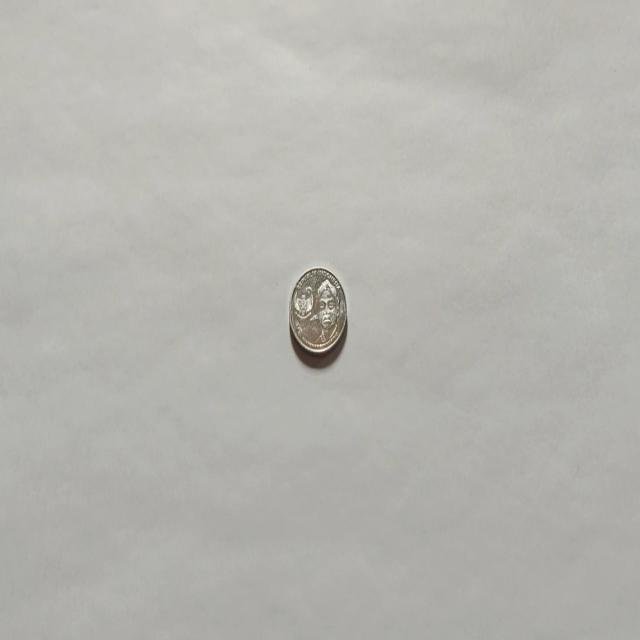dua ratus rupiah: (288, 266, 348, 356)
